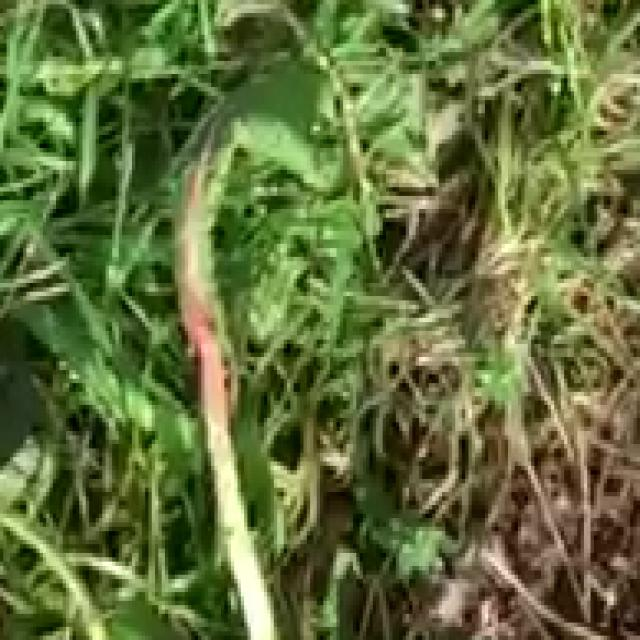organic waste: (119, 30, 396, 514)
